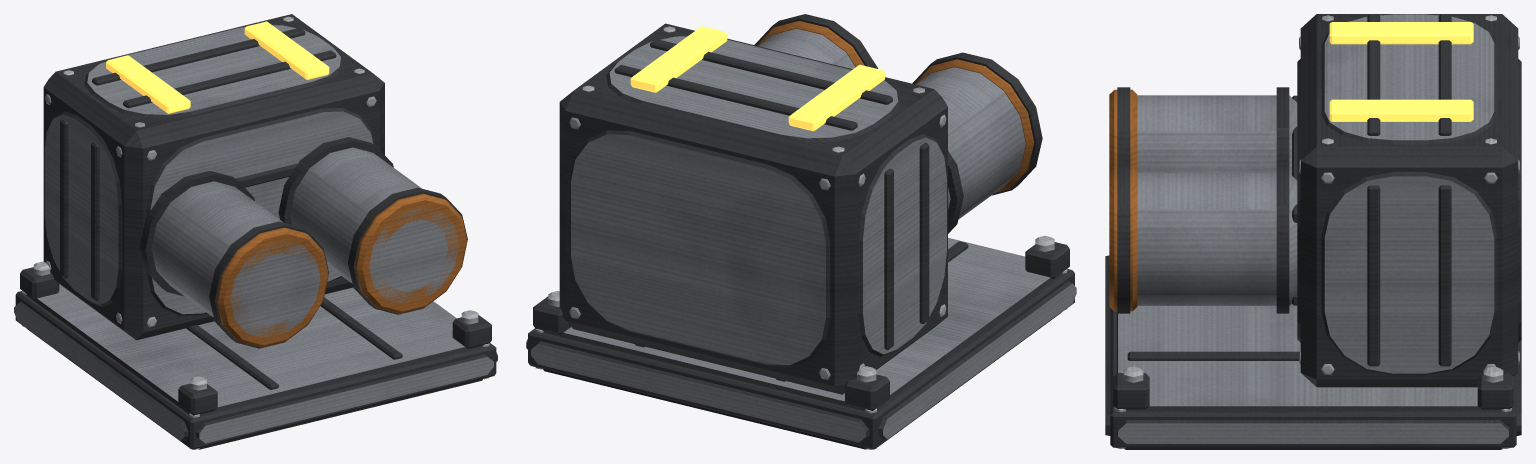
The model's file is R4X_DoubleShotPassive.glb.
The picture shows the model from 3 angles, left to right: view 1: azimuth 30°, elevation 25°; view 2: azimuth 150°, elevation 25°; view 3: azimuth 270°, elevation 25°; orthographic projection. The views are drawn at different scales.
Visible parts, largest first — view 1: R4X_DoubleShotPassive_Body; view 2: R4X_DoubleShotPassive_Body; view 3: R4X_DoubleShotPassive_Body.
Boxes of the visible parts, bbox=[...] form: R4X_DoubleShotPassive_Body: bbox=[14, 14, 497, 449]; R4X_DoubleShotPassive_Body: bbox=[526, 14, 1076, 449]; R4X_DoubleShotPassive_Body: bbox=[1105, 14, 1521, 449].
Size of the model in its own units: 0.52 by 0.415 by 0.52.
Materials: 5 (4 with a texture image).
